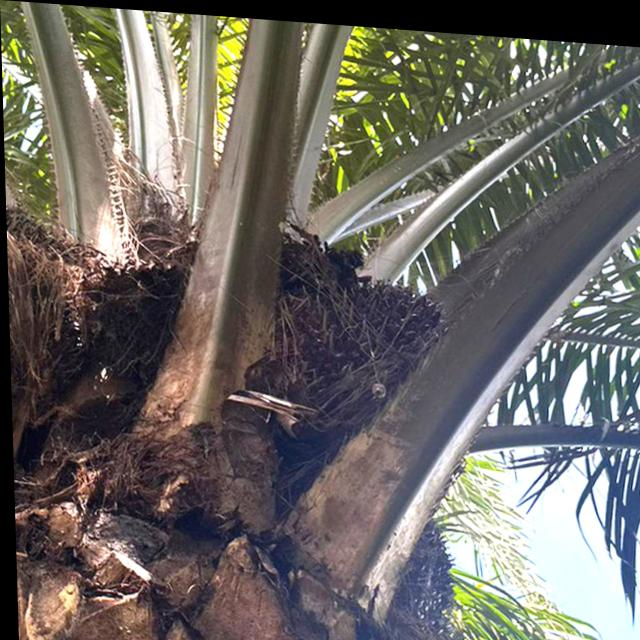ripe: (261, 253, 441, 436)
